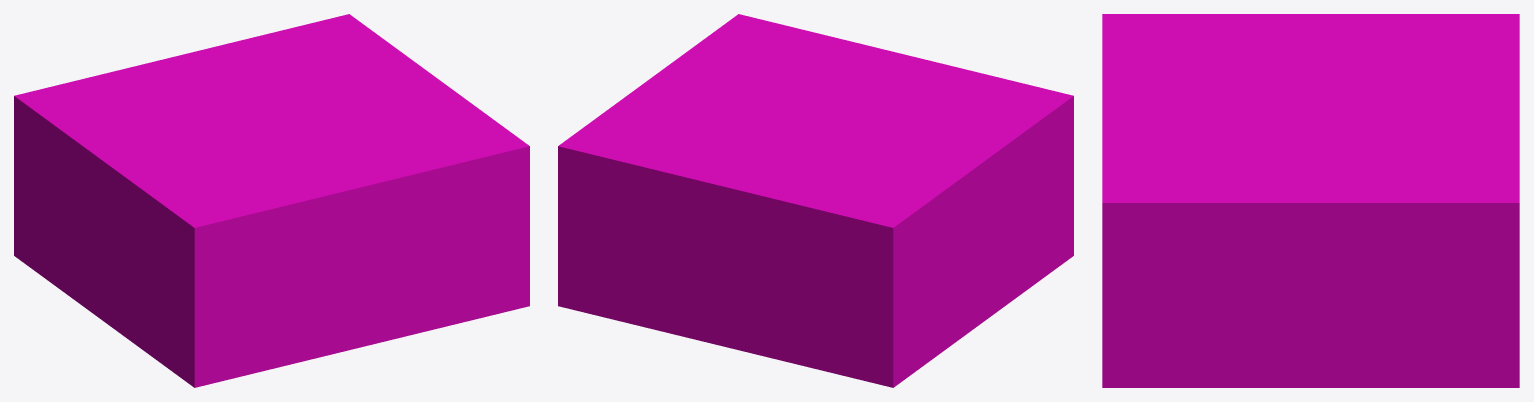
Rendered from powerBox.glb.
The picture shows the model from 3 angles, left to right: view 1: azimuth 30°, elevation 25°; view 2: azimuth 150°, elevation 25°; view 3: azimuth 270°, elevation 25°; orthographic projection. The views are drawn at different scales.
Parts seen in each view (by area): view 1: powerBox; view 2: powerBox; view 3: powerBox.
Part boxes in pixels (x1=…): powerBox: x1=14, y1=14, x2=529, y2=387; powerBox: x1=558, y1=14, x2=1073, y2=387; powerBox: x1=1102, y1=14, x2=1519, y2=387.
Size of the model in its own units: 0.1625 by 0.0741 by 0.1516.
